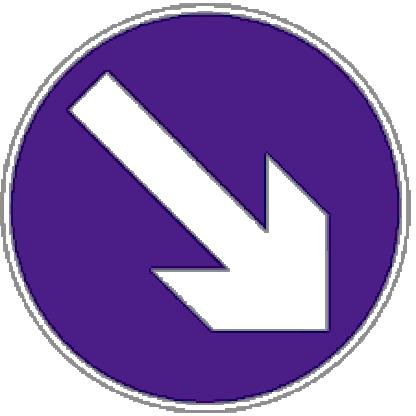Keep right: (10, 3, 405, 408)
